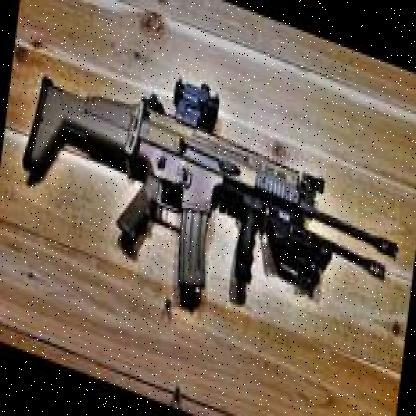rifle: (17, 37, 406, 367)
